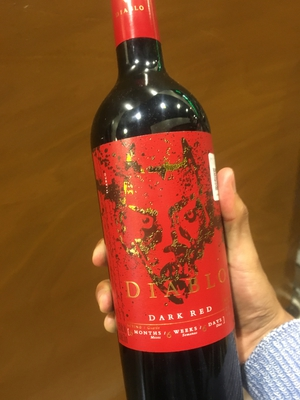diablo dark red: (87, 5, 251, 400)
